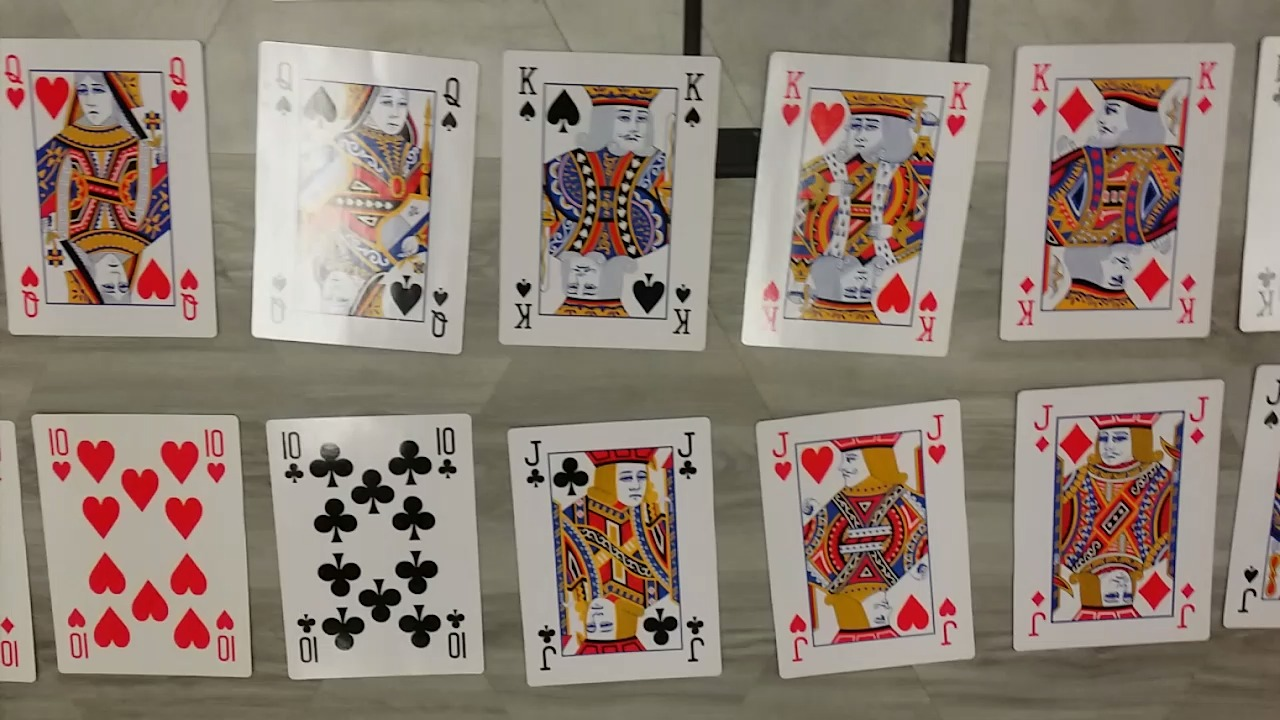10_club: (263, 408, 489, 683)
10_diamond: (1012, 374, 1228, 650)
10_heart: (29, 409, 254, 677)
jack_club: (502, 418, 728, 684)
jack_heart: (756, 397, 987, 682)
king_diamond: (1000, 42, 1234, 352)
king_heart: (743, 53, 990, 369)
king_spade: (496, 46, 725, 357)
queen_heart: (0, 34, 218, 339)
queen_spade: (246, 38, 484, 354)
